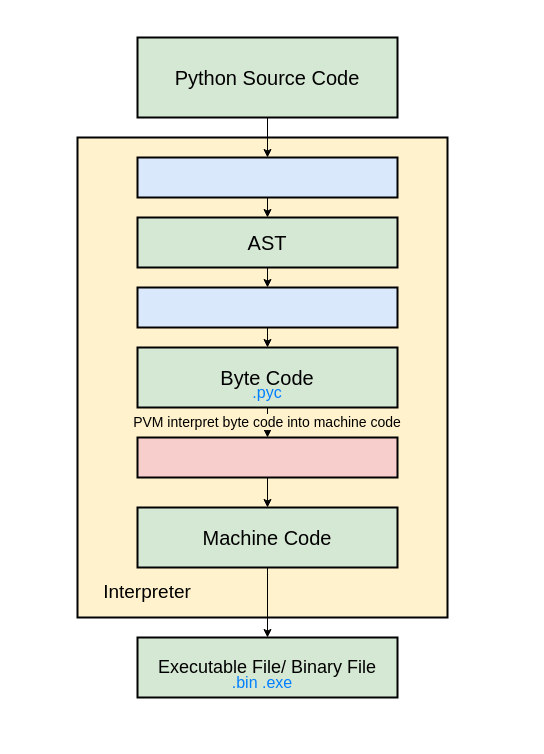
Image size: 544x754. Some labels were removed from this diagram. The centre of each missing label's shape, as x and y in pixels:
"Compilation" belongs at [267,307].
"Parsing" belongs at [267,177].
"Python Virtual Machine" belongs at [267,457].
